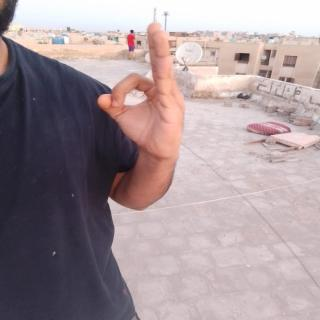Space: (94, 19, 187, 169)
